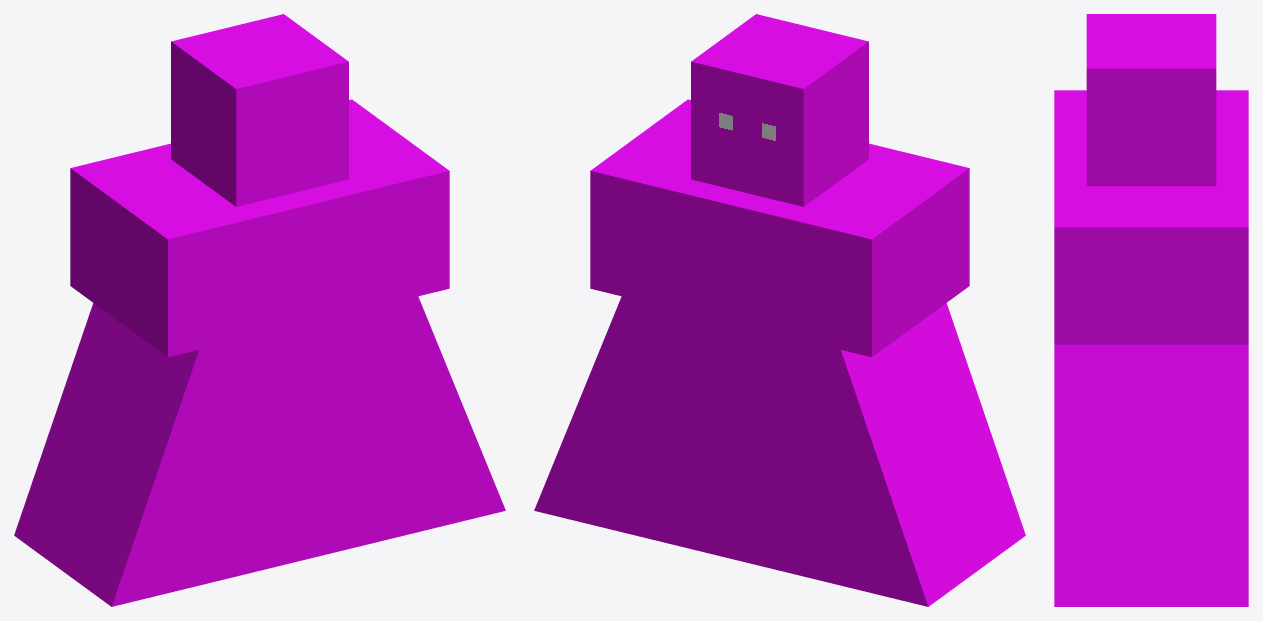
The model's file is ranged-basic.obj.
3 renders of one model, left to right at view 1: azimuth 30°, elevation 25°; view 2: azimuth 150°, elevation 25°; view 3: azimuth 270°, elevation 25°, orthographic.
Parts seen in each view (by area): view 1: cuboid; view 2: cuboid; view 3: cuboid.
Boxes of the visible parts, <box> form: cuboid: <box>14,14,505,606</box>; cuboid: <box>534,14,1025,606</box>; cuboid: <box>1054,14,1248,606</box>.
Bounding box in the file's own units: 0.4375 × 0.5 × 0.1875.
Materials: 3 (3 with a texture image).
